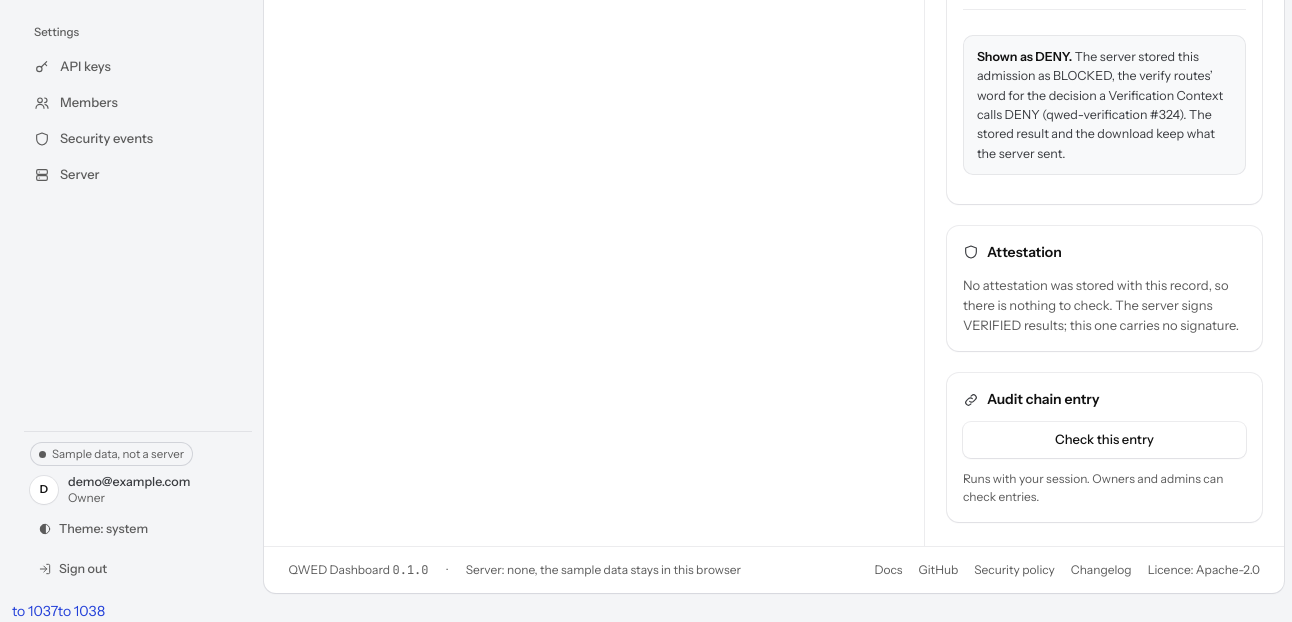
Scenario: RecordPage › the reason, what next, and checks › starts the checks afresh on another record, even when the page stays open
(page scrolled)
Click the link "to 1038" at (81, 611), box [58,602,105,620]
(page scrolled)
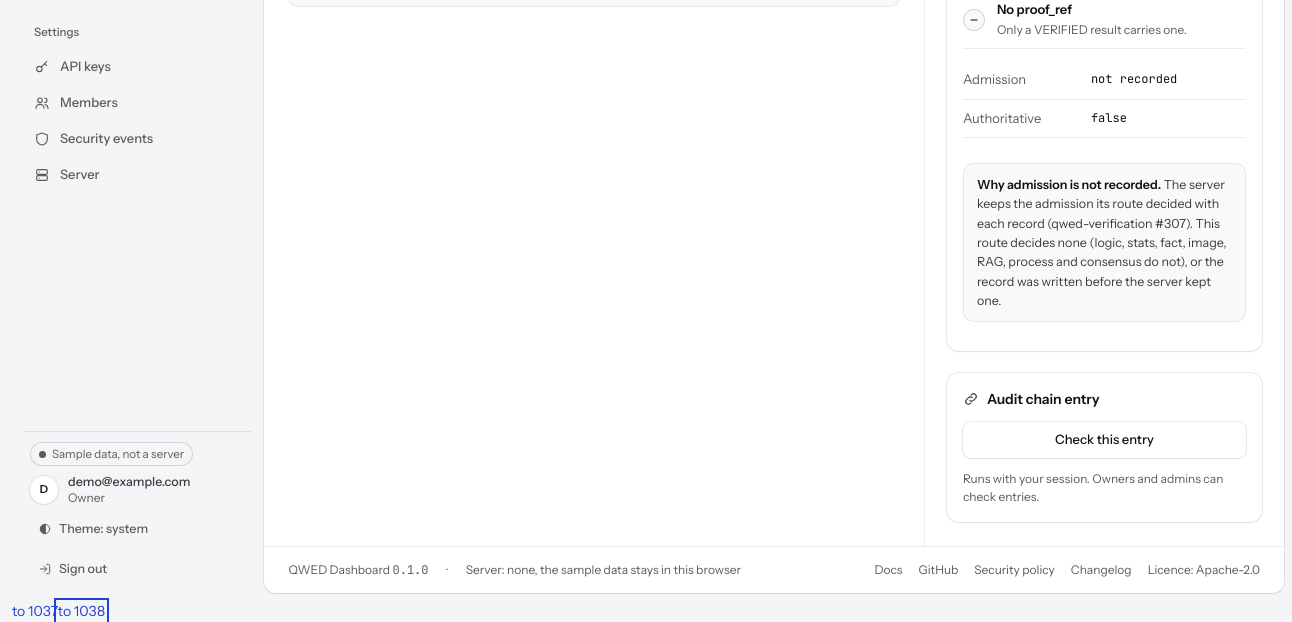
Click the button "Check this entry" at (1104, 440), box [963,422,1246,458]
(page scrolled)
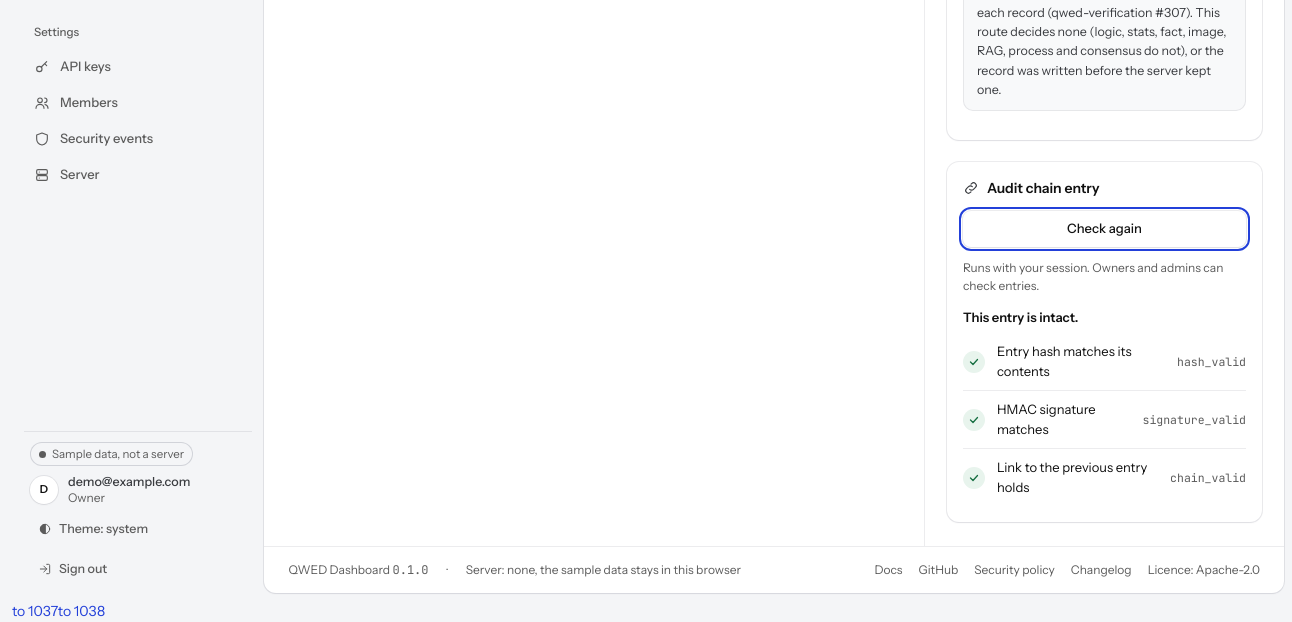
expect the text "This entry is intact." is shown: met, box [963,309,1078,325]
Click the link "to 1037" at (35, 611), box [12,602,58,620]
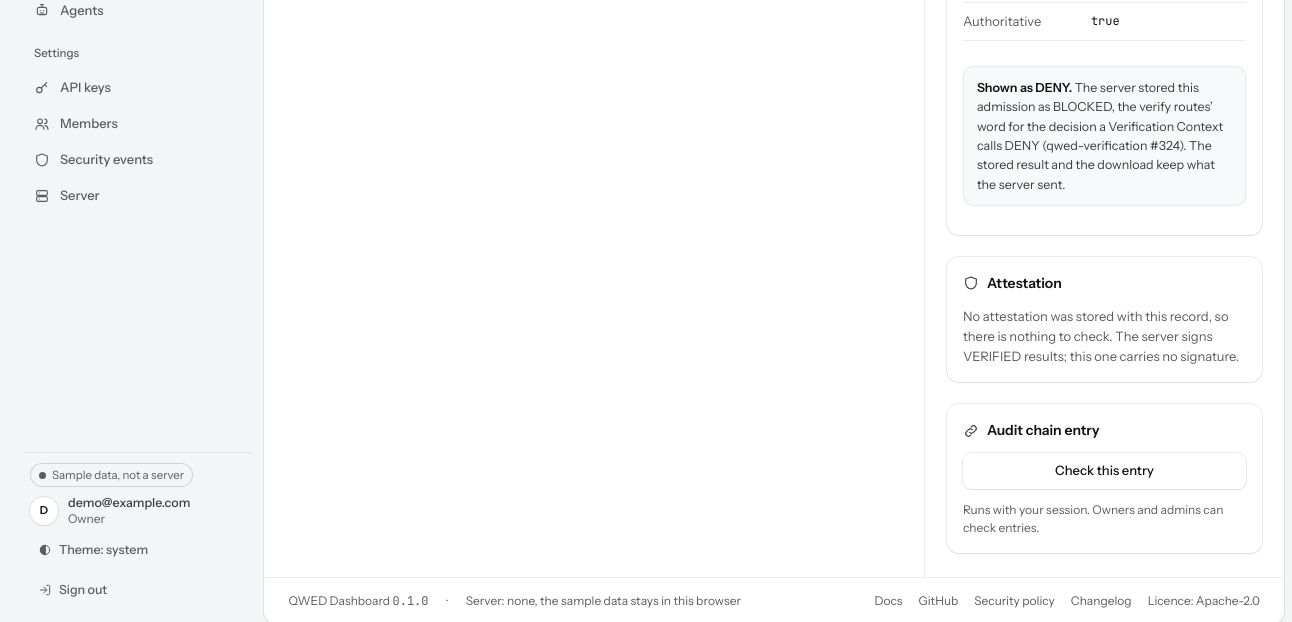
expect the text "This entry is intact." is gone: met
expect the button "Check this entry" is shown: met, box [963,453,1246,489]
